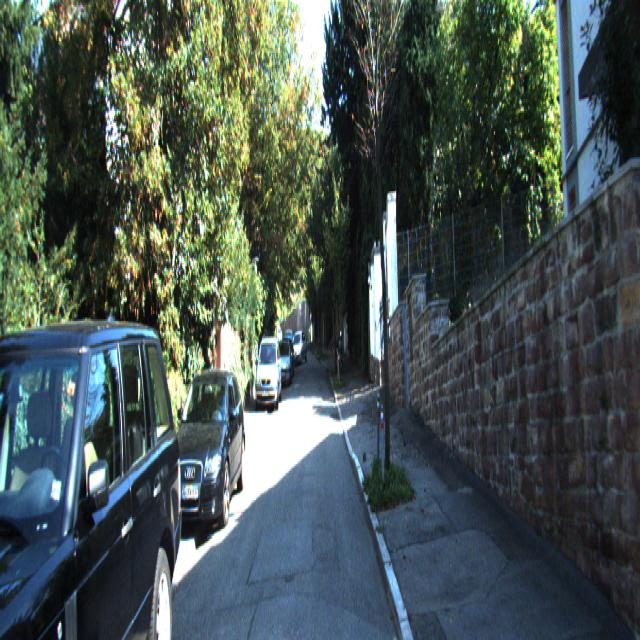Car: (0, 270, 186, 638), (162, 353, 246, 543), (255, 332, 283, 416), (276, 332, 292, 383), (290, 329, 308, 369)
